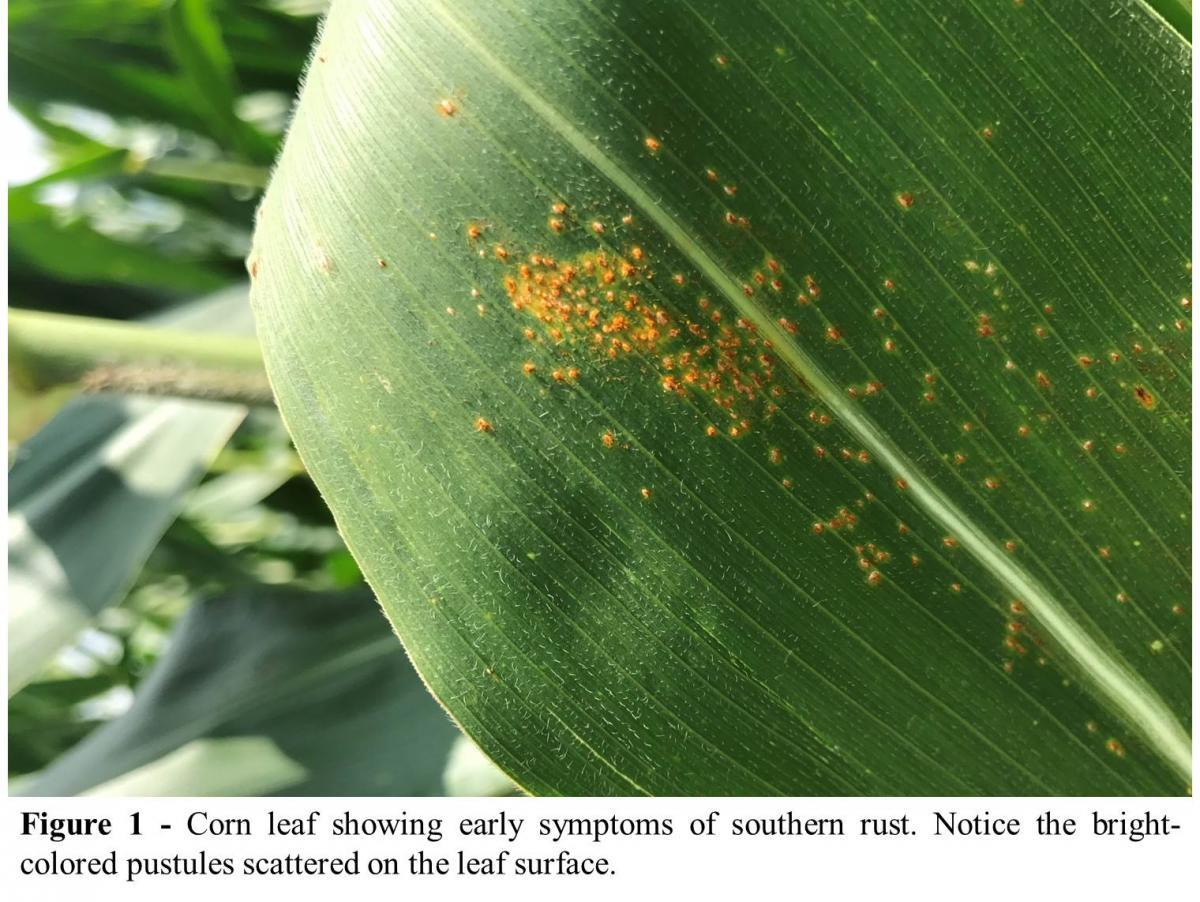Corn rust leaf: (233, 6, 1192, 795)
